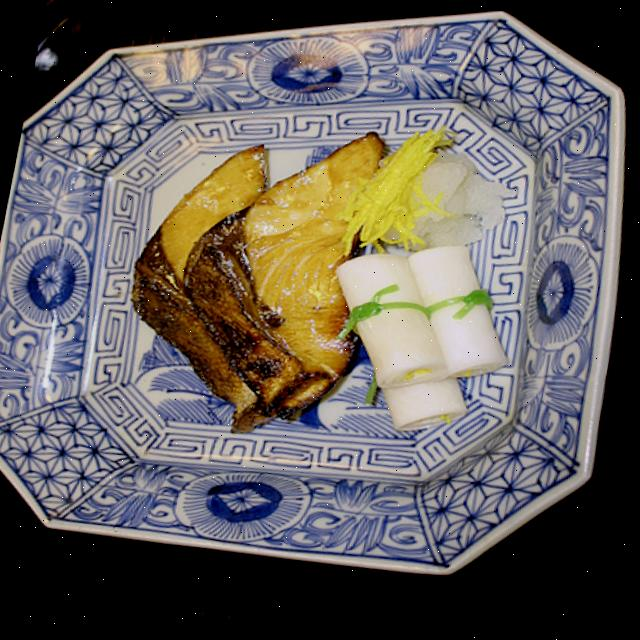熟制海鲜: (95, 105, 403, 454)
